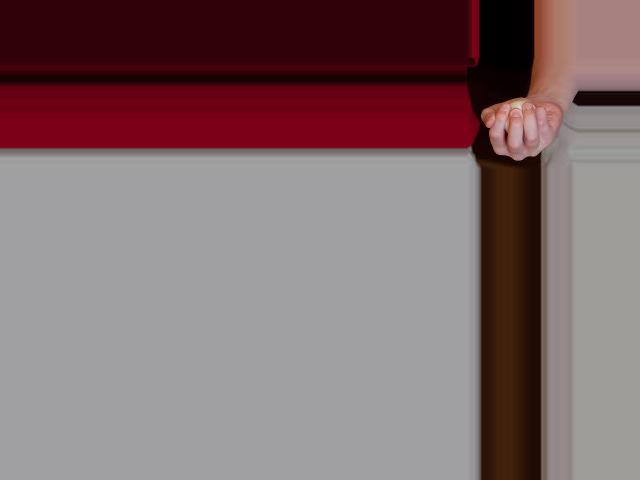egg: (500, 100, 535, 134)
